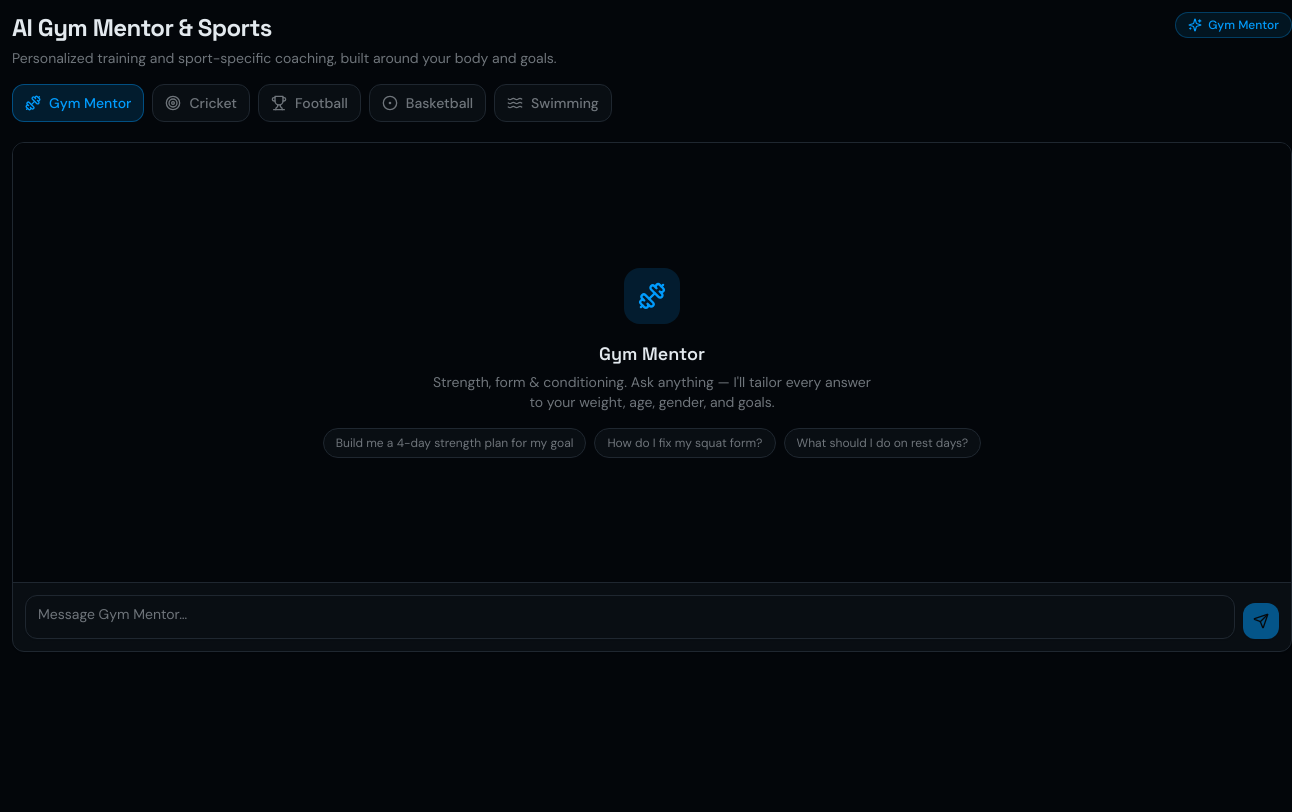
GymMentor › switches to the cricket coach and sends a sport-specific message with the user's profile
The image size is (1292, 812).
Click the tab "Cricket" at (201, 103), box [152,84,250,122]
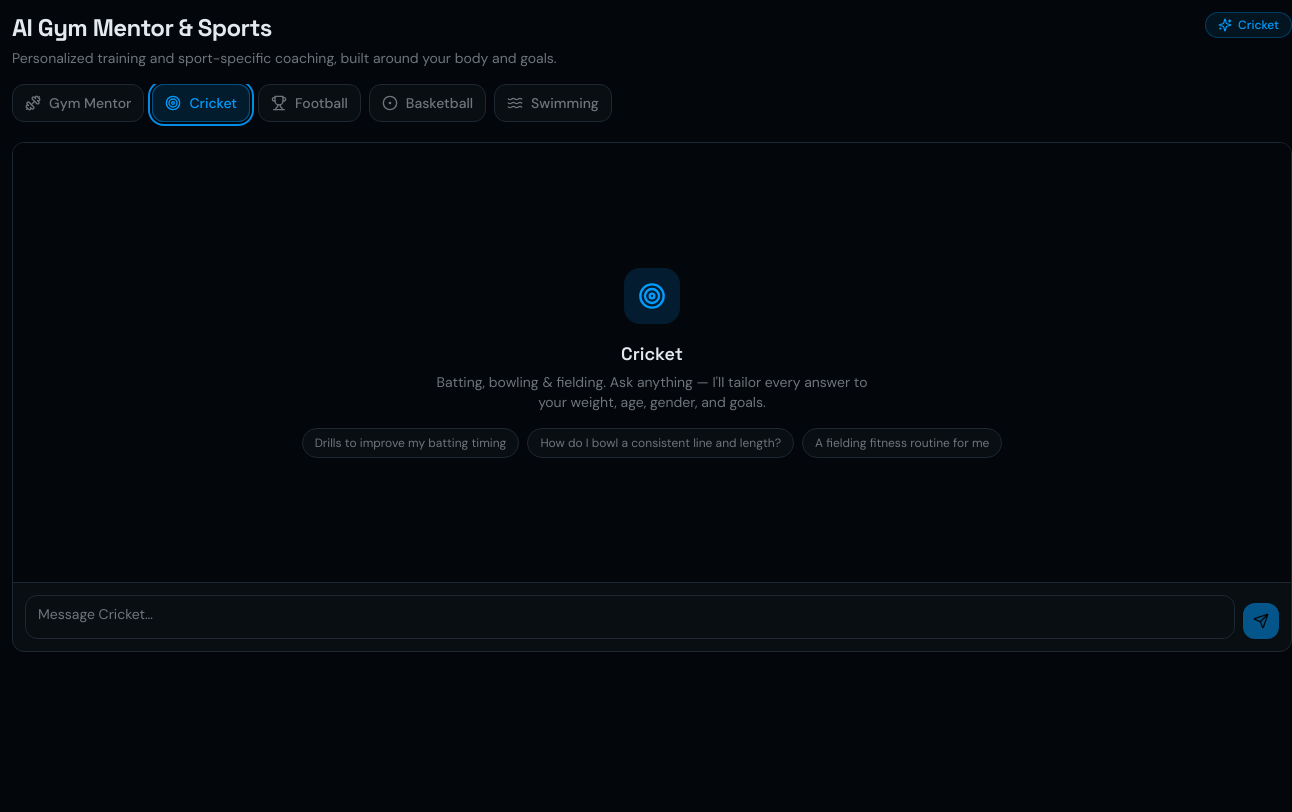
Expected: the button "Drills to improve my batting timing" is shown, [302,428,519,458]
Expected: the button "How do I bowl a consistent line and length?" is shown, [527,428,794,458]
Type "How do I bowl a consistent line and length?" into the text box labelled "Message Cricket" at (630, 617), box [25,595,1235,639]
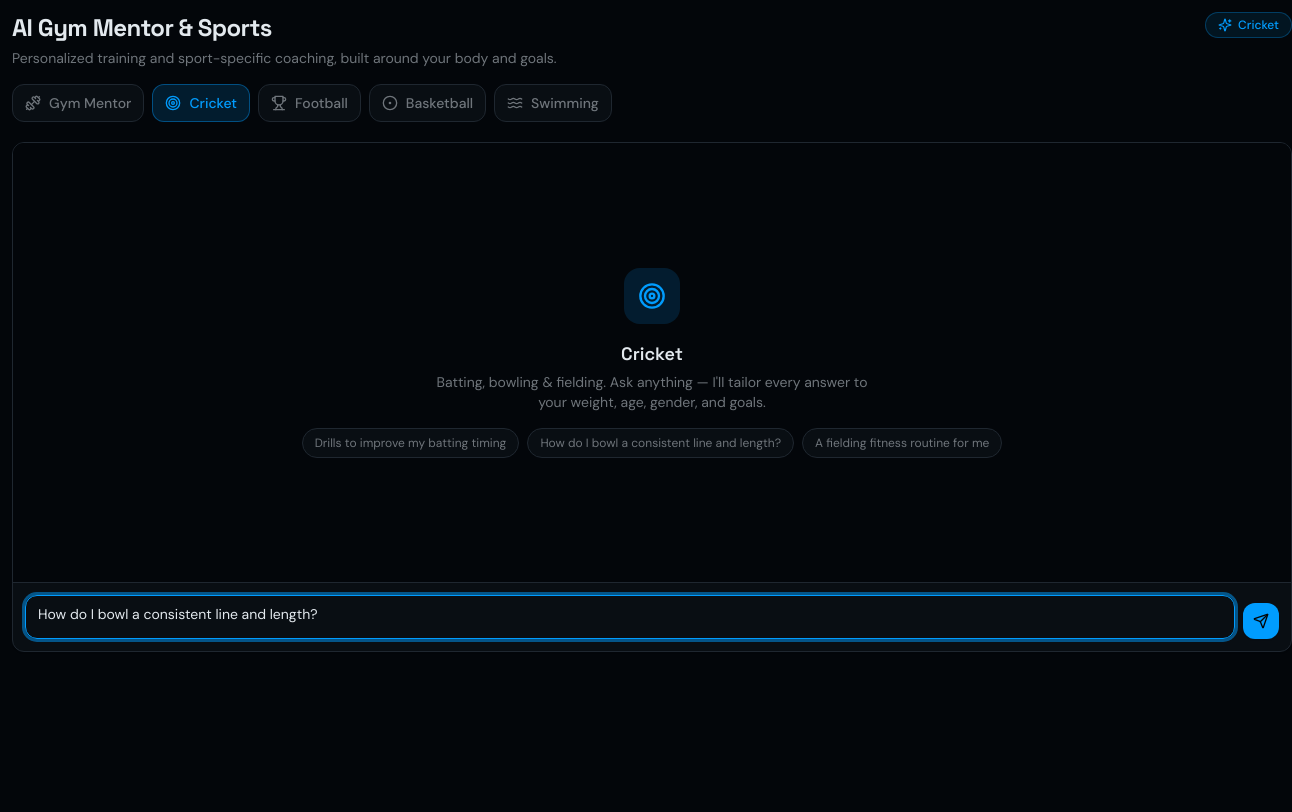
Click the button named "Send message" at (1261, 621), box [1243,603,1279,639]
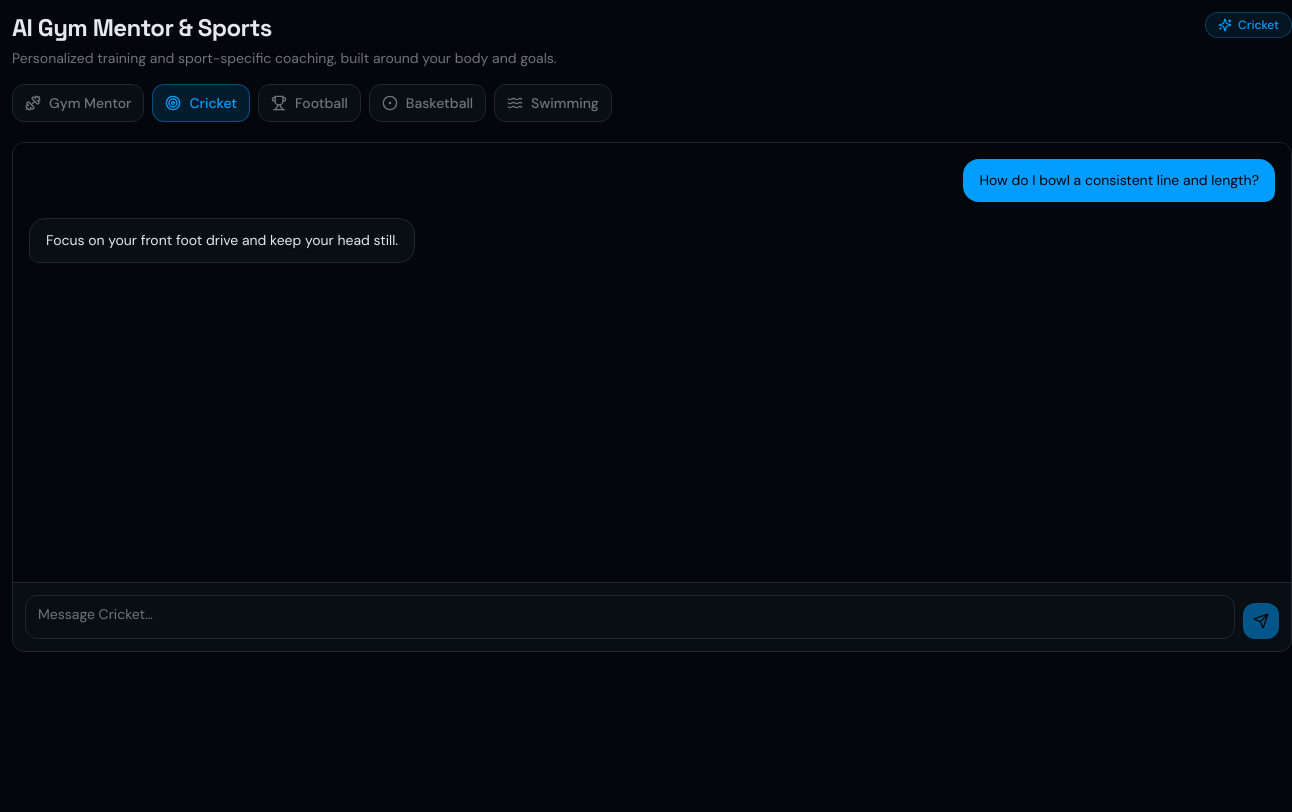
Expected: the text "Focus on your front foot drive and keep your head still." is shown, [46,229,398,252]
